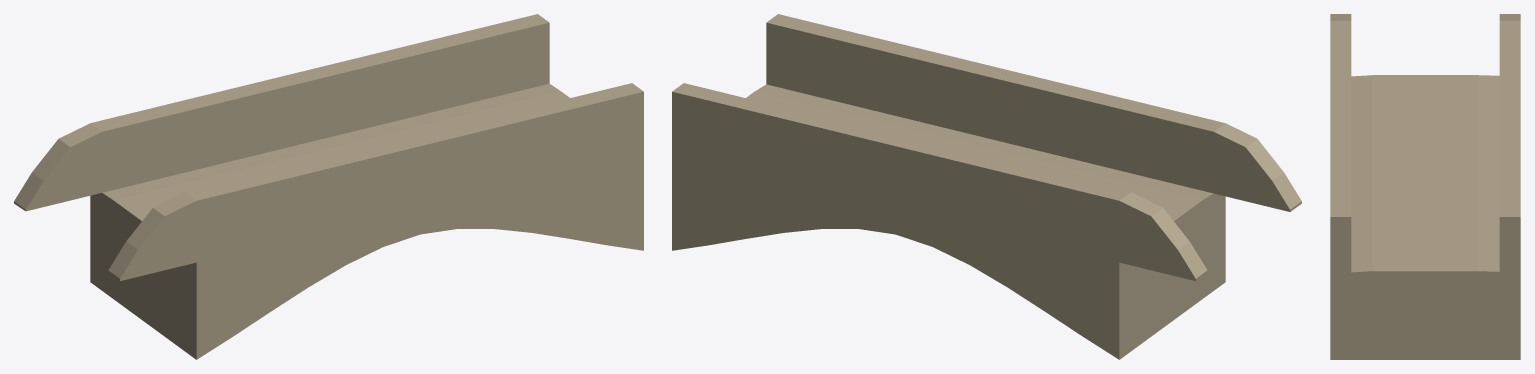
The model's file is Bridge.fbx.
3 renders of one model, left to right at view 1: azimuth 30°, elevation 25°; view 2: azimuth 150°, elevation 25°; view 3: azimuth 270°, elevation 25°, orthographic. The views are drawn at different scales.
Visible parts, largest first — view 1: Bridge; view 2: Bridge; view 3: Bridge.
Boxes of the visible parts, x1,y1,x2,y2 form: Bridge: (14,14,643,359); Bridge: (672,14,1301,359); Bridge: (1330,14,1520,359).
Size of the model in its own units: 152 by 433 by 126.
